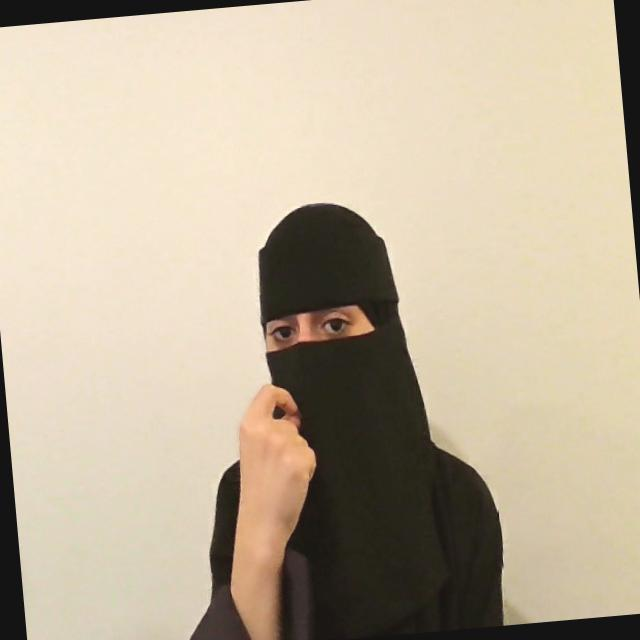medicine: (212, 378, 326, 570)
